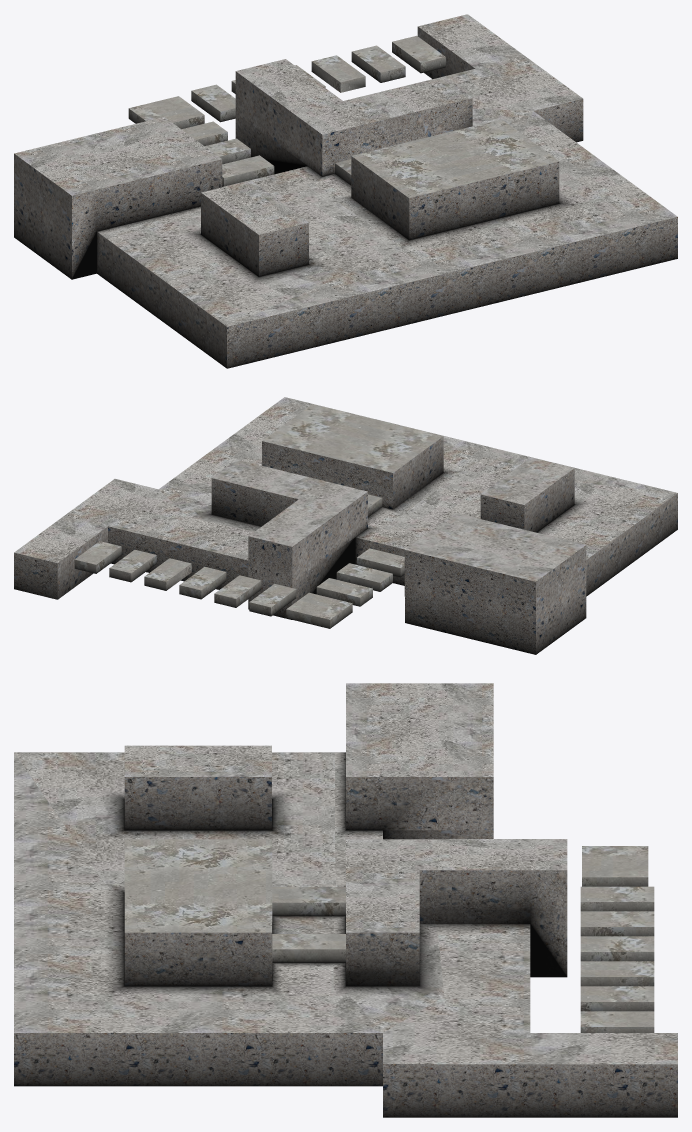
Rendered from pure concrete map pieces.glb.
3 views of the same model, one above another, from view 1: azimuth 30°, elevation 25°; view 2: azimuth 150°, elevation 25°; view 3: azimuth 270°, elevation 25° (orthographic). The views are drawn at different scales.
Parts seen in each view (by area): view 1: Plane.005; view 2: Plane.005; view 3: Plane.005.
Boxes of the visible parts, left/top/right/bottom form: Plane.005: left=14, top=14, right=677, bottom=368; Plane.005: left=14, top=397, right=677, bottom=654; Plane.005: left=14, top=683, right=677, bottom=1117.
Size of the model in its own units: 105 by 16.02 by 89.99.
Materials: 3 (3 with a texture image).
